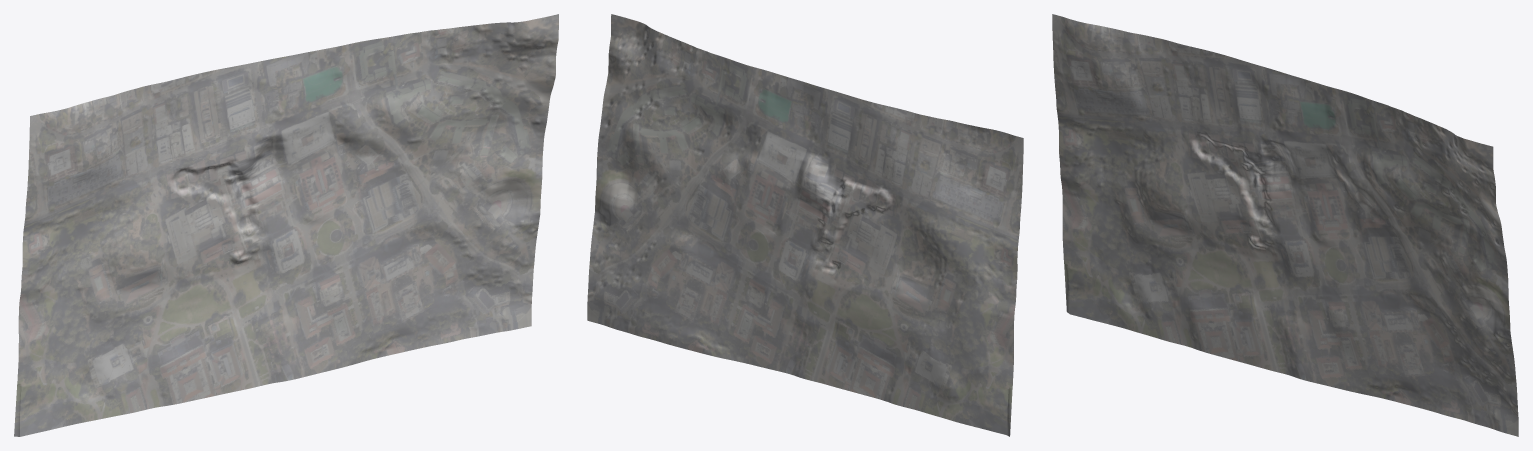
The model's file is Site60-Terrain.obj.
The picture shows the model from 3 angles, left to right: view 1: azimuth 30°, elevation 25°; view 2: azimuth 150°, elevation 25°; view 3: azimuth 330°, elevation 25°; orthographic projection. The views are drawn at different scales.
Bounding box in the file's own units: 2495 × 1579 × 373.
1 material, 1 textured.
